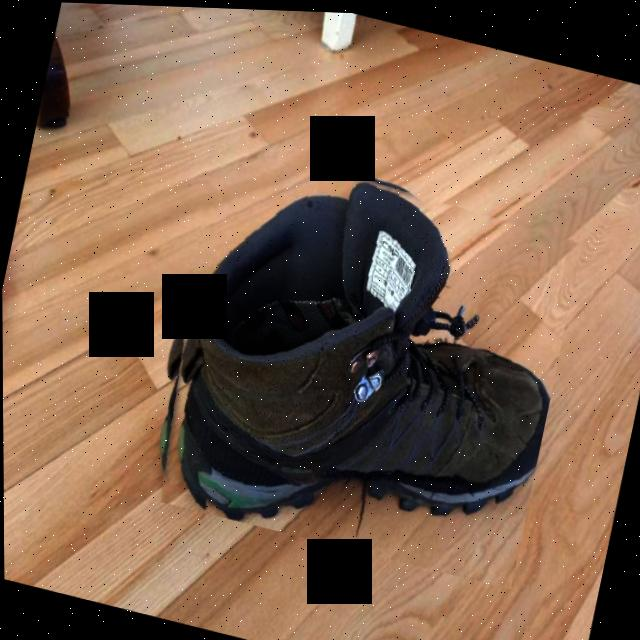shoe: (135, 130, 587, 587)
